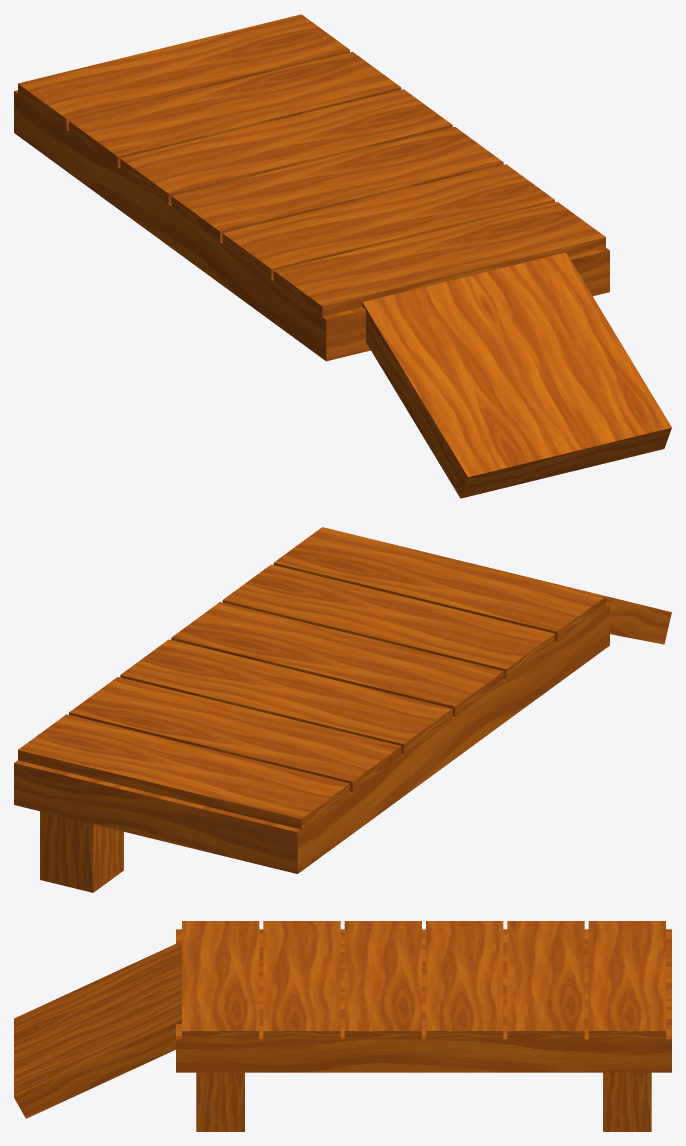
File: module-deck.gltf
3 renders of one model, top to bottom at view 1: azimuth 30°, elevation 25°; view 2: azimuth 150°, elevation 25°; view 3: azimuth 270°, elevation 25°, orthographic. The views are drawn at different scales.
Parts seen in each view (by area): view 1: module-deck; view 2: module-deck; view 3: module-deck.
Part boxes in pixels (x1,y1,x2,y2): module-deck: (14, 14, 671, 498); module-deck: (14, 527, 671, 892); module-deck: (14, 921, 671, 1131).
Size of the model in its own units: 0.64 by 0.2875 by 1.62.
Materials: 1 (1 with a texture image).
